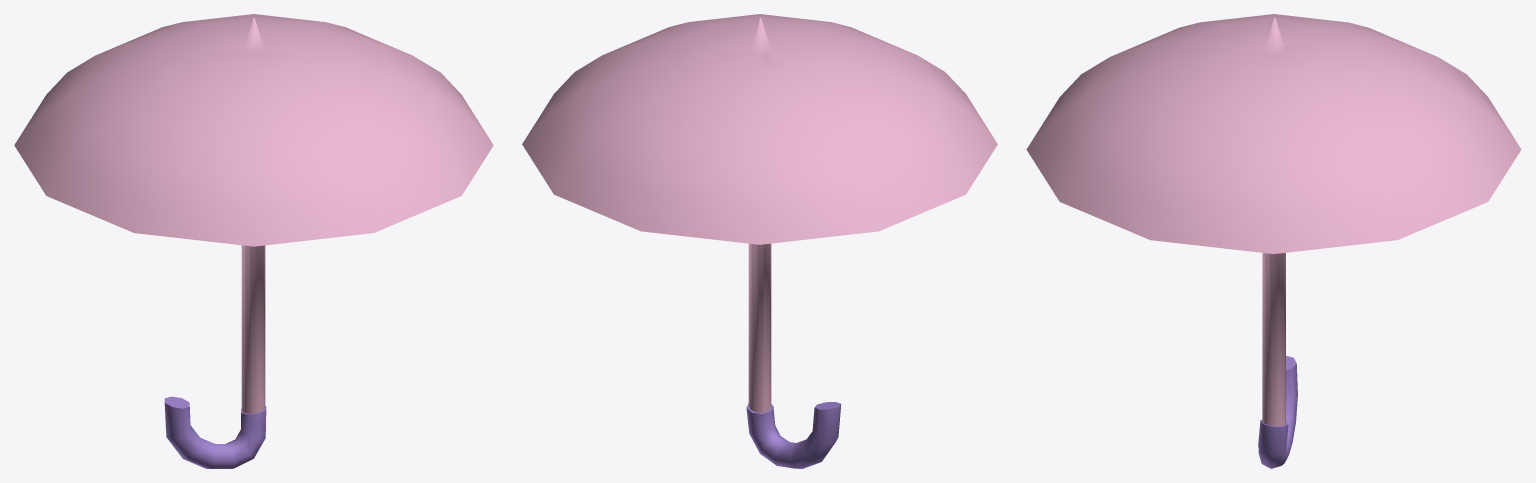
File: umbrella.fbx
3 views of the same model, side by side, from view 1: azimuth 30°, elevation 25°; view 2: azimuth 150°, elevation 25°; view 3: azimuth 270°, elevation 25° (orthographic). The views are drawn at different scales.
Parts seen in each view (by area): view 1: Sphere, NurbsPath; view 2: Sphere, NurbsPath; view 3: Sphere, NurbsPath.
Part boxes in pixels (left/top/right/bottom): Sphere: left=14, top=14, right=493, bottom=413; NurbsPath: left=164, top=396, right=266, bottom=468; Sphere: left=522, top=14, right=997, bottom=413; NurbsPath: left=746, top=402, right=841, bottom=468; Sphere: left=1026, top=14, right=1521, bottom=426; NurbsPath: left=1258, top=356, right=1297, bottom=468.
Bounding box in the file's own units: 277 × 284 × 277.
